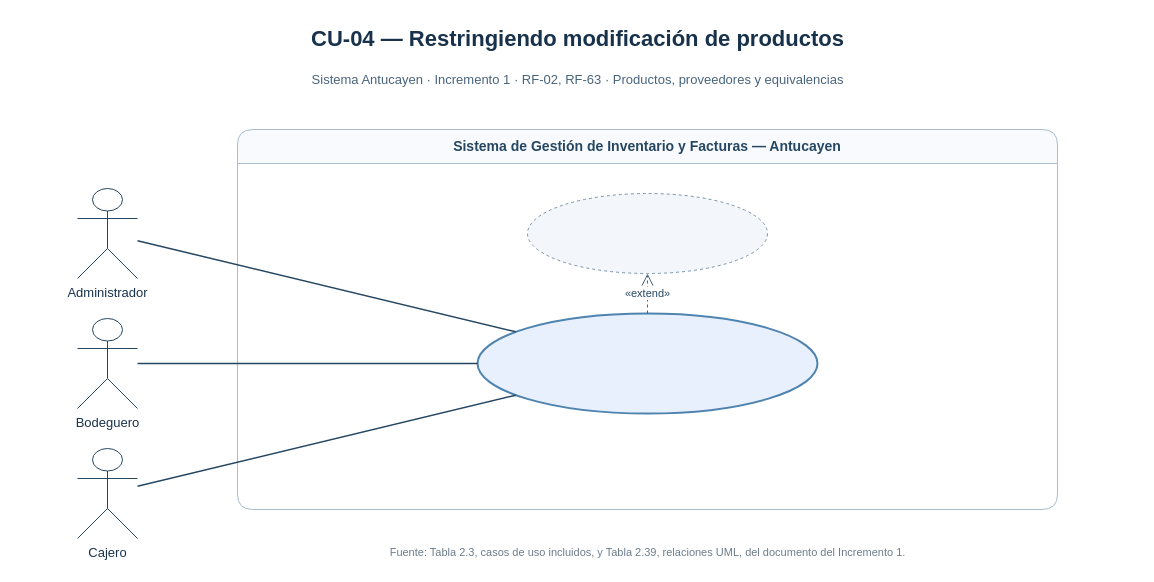
This 1154x582 diagram has some shape labels left out. The shapes that lost their labels are listed below. From the top down, each one's centre as x and y in pixels, then its label:
At [647,233]: "CU-35 Controlando acceso mediante credenciales".
At [647,363]: "CU-04 Restringiendo modificación de productos".
